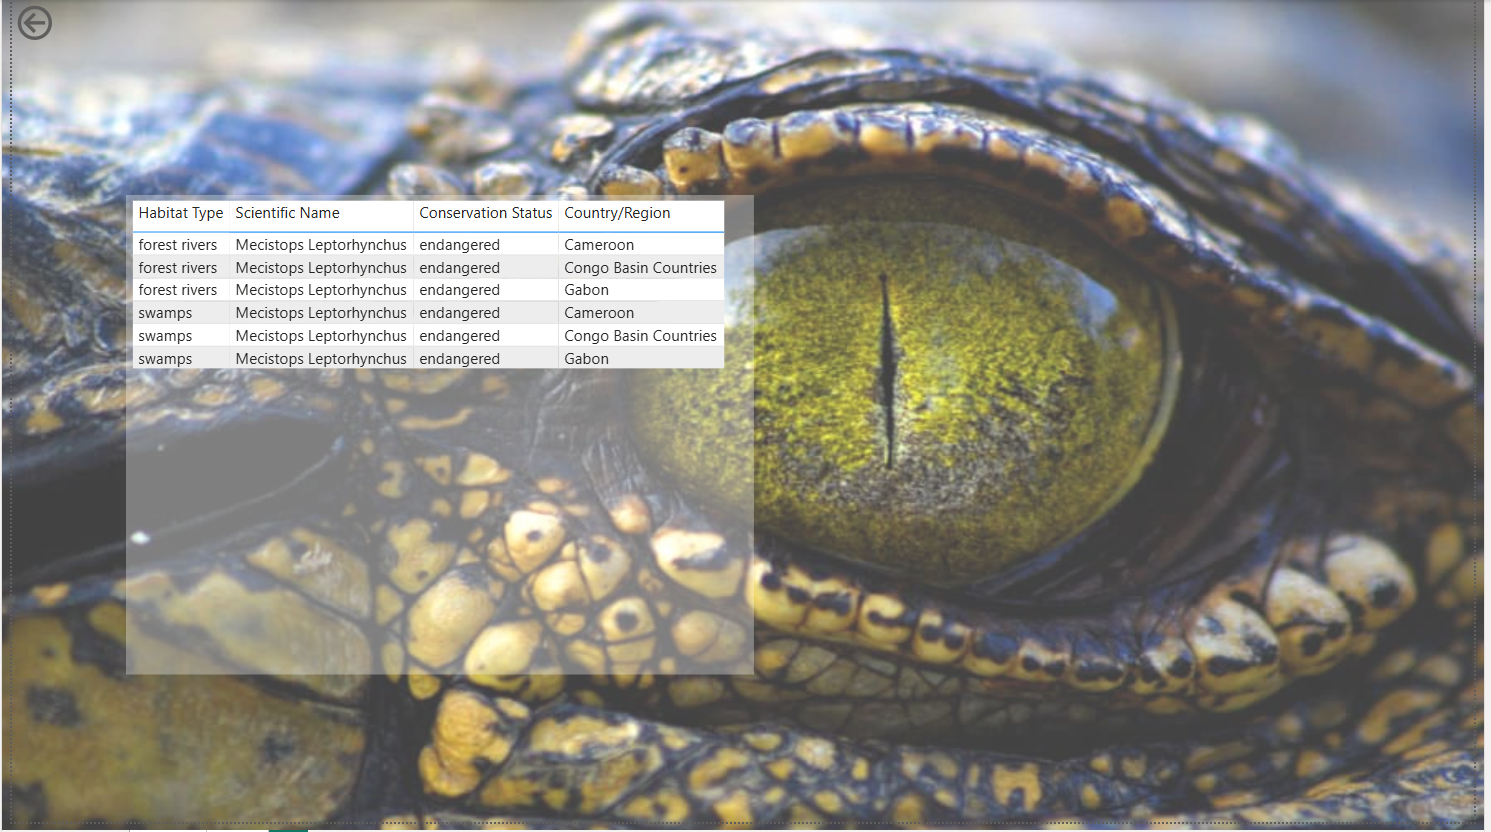

Layout of this report page (visuals, bound fields, positions):
{"tool":"powerbi","page":{"name":"info","canvas":[1280,720],"ordinal":1},"visuals":[{"type":"tableEx","fields":{"Values":["crocodile_dataset.Habitat Type","crocodile_dataset.Scientific Name","crocodile_dataset.Conservation Status","crocodile_dataset.Country/Region"]},"box":[99.9,170.8,550.1,419.6],"z":0},{"type":"actionButton","box":[0,0,100,40],"z":1000}]}

Visuals, with their boxes in screenshot pixels (x1, y1, x2, y2), scaled from the page's 1280x720 canvas onto the 1491x832 screenshot:
tableEx - crocodile_dataset.Habitat Type x crocodile_dataset.Scientific Name: 116:197:757:682
actionButton: 0:0:116:46
